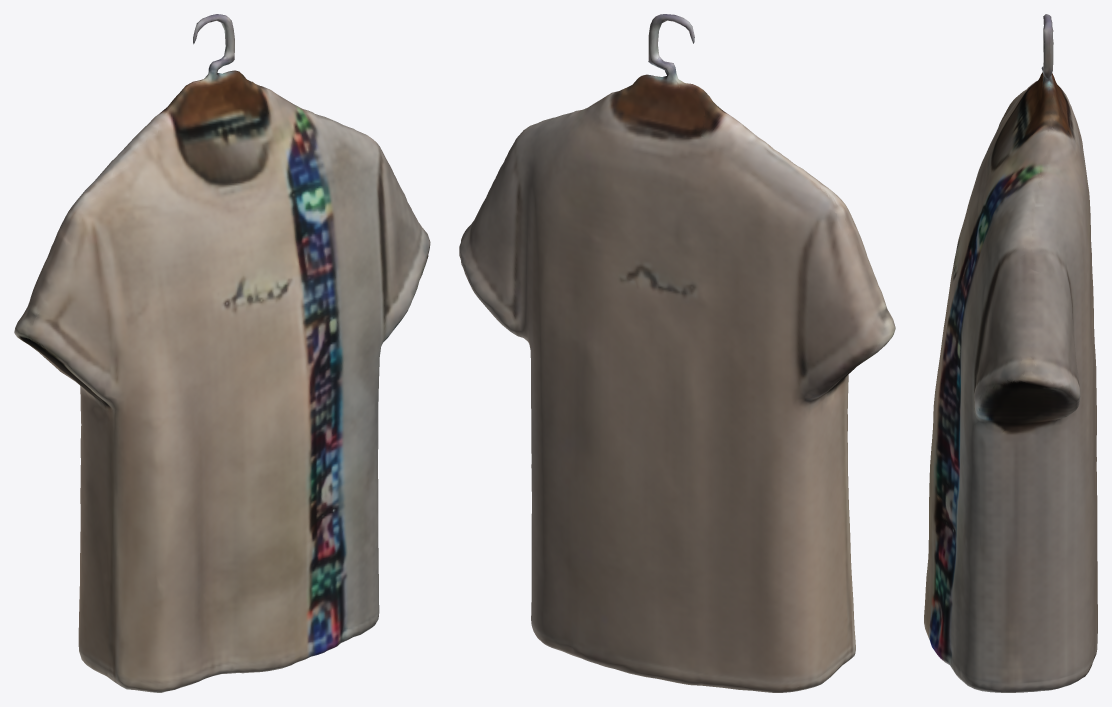
The model's file is preview.glb.
3 views of the same model, side by side, from view 1: azimuth 30°, elevation 25°; view 2: azimuth 150°, elevation 25°; view 3: azimuth 270°, elevation 25° (orthographic). The views are drawn at different scales.
Visible parts, largest first — view 1: mesh; view 2: mesh; view 3: mesh.
Part boxes in pixels (x1,y1,x2,y2): mesh: [14, 14, 430, 692]; mesh: [459, 14, 895, 692]; mesh: [924, 14, 1097, 692].
Size of the model in its own units: 1.27 by 1.83 by 0.4714.
1 material, 1 textured.
